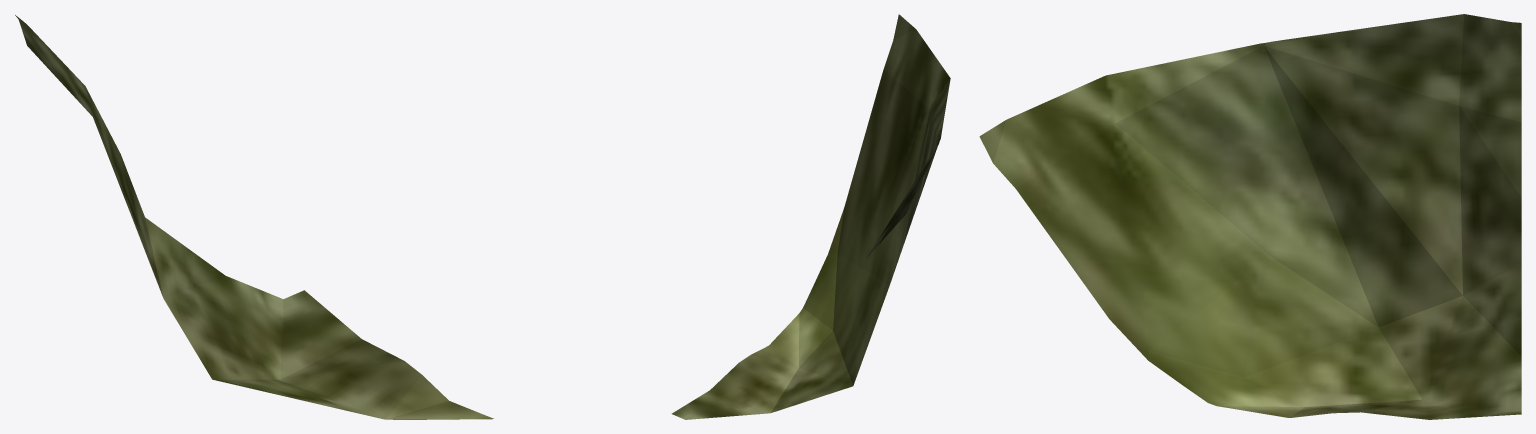
3 views of the same model, side by side, from view 1: azimuth 30°, elevation 25°; view 2: azimuth 150°, elevation 25°; view 3: azimuth 270°, elevation 25° (orthographic). The views are drawn at different scales.
Bounding box in the file's own units: 0.5612 × 0.6344 × 1.05.
Materials: 1 (1 with a texture image).
